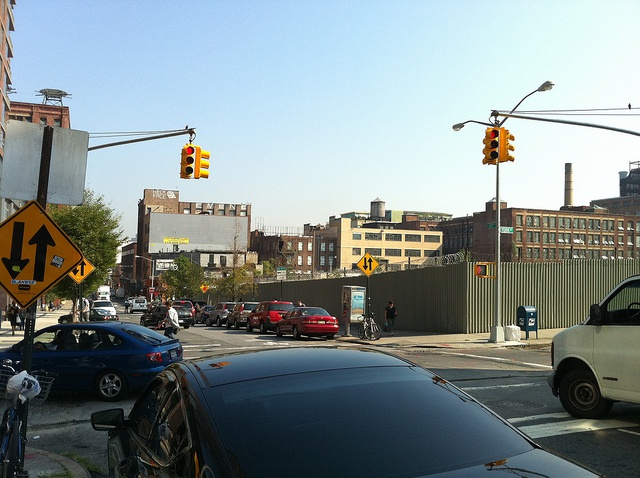non-vehicle: (0, 358, 58, 478), (357, 315, 381, 339)
